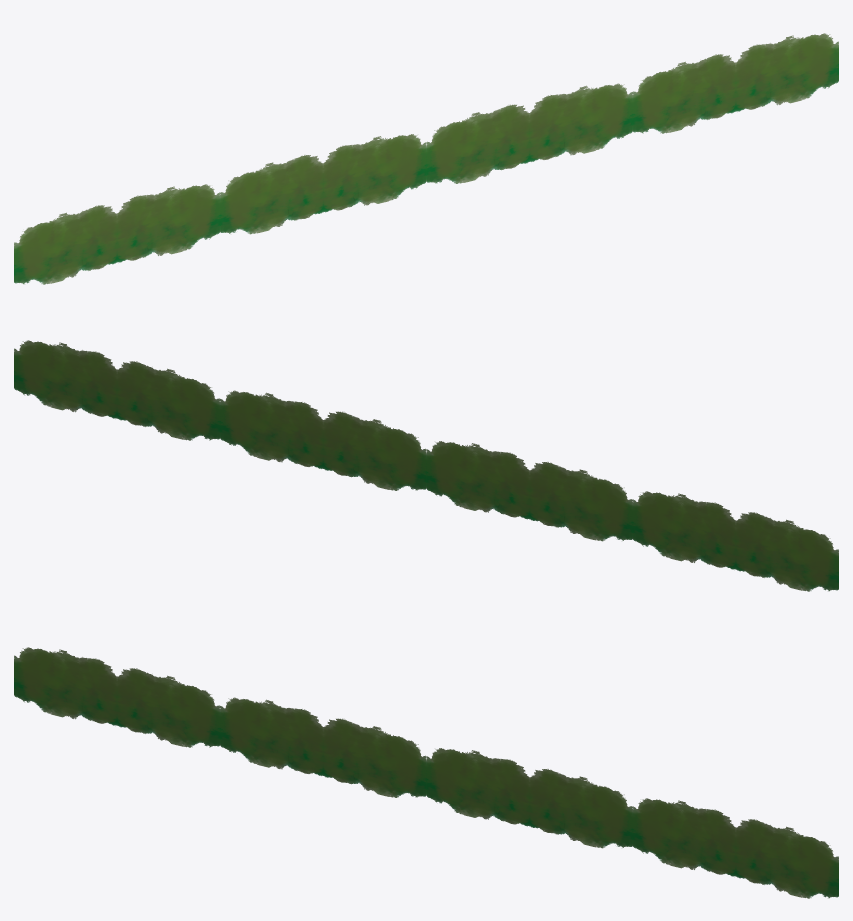
Rendered from Moss.FBX.
3 views of the same model, one above another, from view 1: azimuth 30°, elevation 25°; view 2: azimuth 150°, elevation 25°; view 3: azimuth 330°, elevation 25° (orthographic).
Visible parts, largest first — view 1: Plane004; view 2: Plane004; view 3: Plane004.
Boxes of the visible parts, <box> form: Plane004: <box>14,33,838,284</box>; Plane004: <box>14,340,838,591</box>; Plane004: <box>14,647,838,898</box>.
Bounding box in the file's own units: 509 × 45.7 × 7.45e-06.
